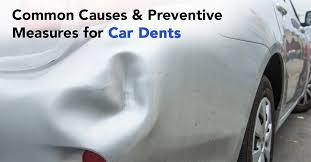dent: (51, 49, 153, 158)
